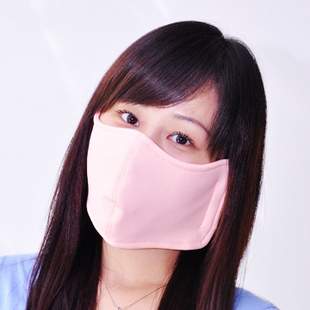face_mask: (88, 70, 223, 248)
